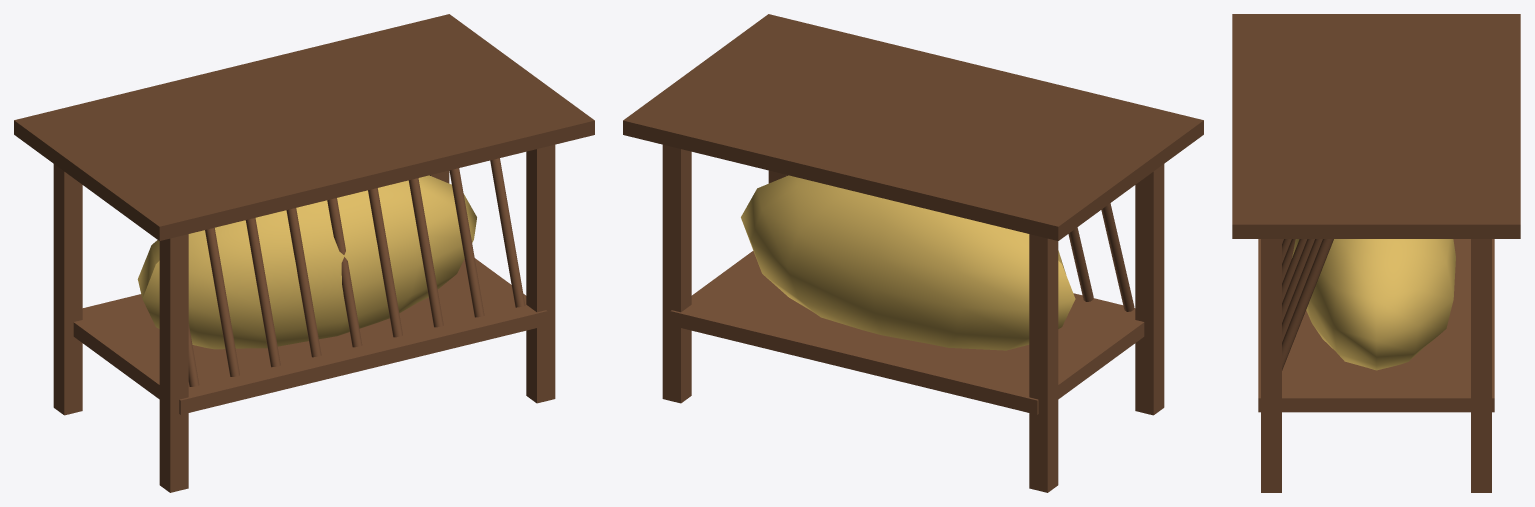
The model's file is comedero.glb.
3 views of the same model, side by side, from view 1: azimuth 30°, elevation 25°; view 2: azimuth 150°, elevation 25°; view 3: azimuth 270°, elevation 25° (orthographic).
Visible parts, largest first — view 1: Comedero; view 2: Comedero; view 3: Comedero.
Part boxes in pixels (<box>): Comedero: <box>14,14,594,492</box>; Comedero: <box>623,14,1203,492</box>; Comedero: <box>1232,14,1520,492</box>.
Bounding box in the file's own units: 1.9 × 1.18 × 1.1.
